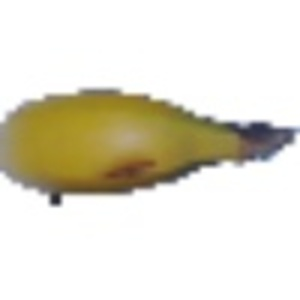banana: (1, 81, 281, 198)
